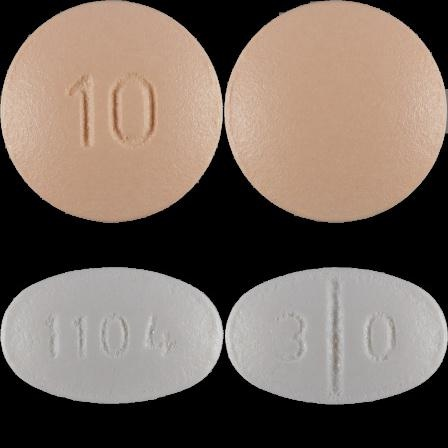13668-103: (0, 0, 224, 224)
